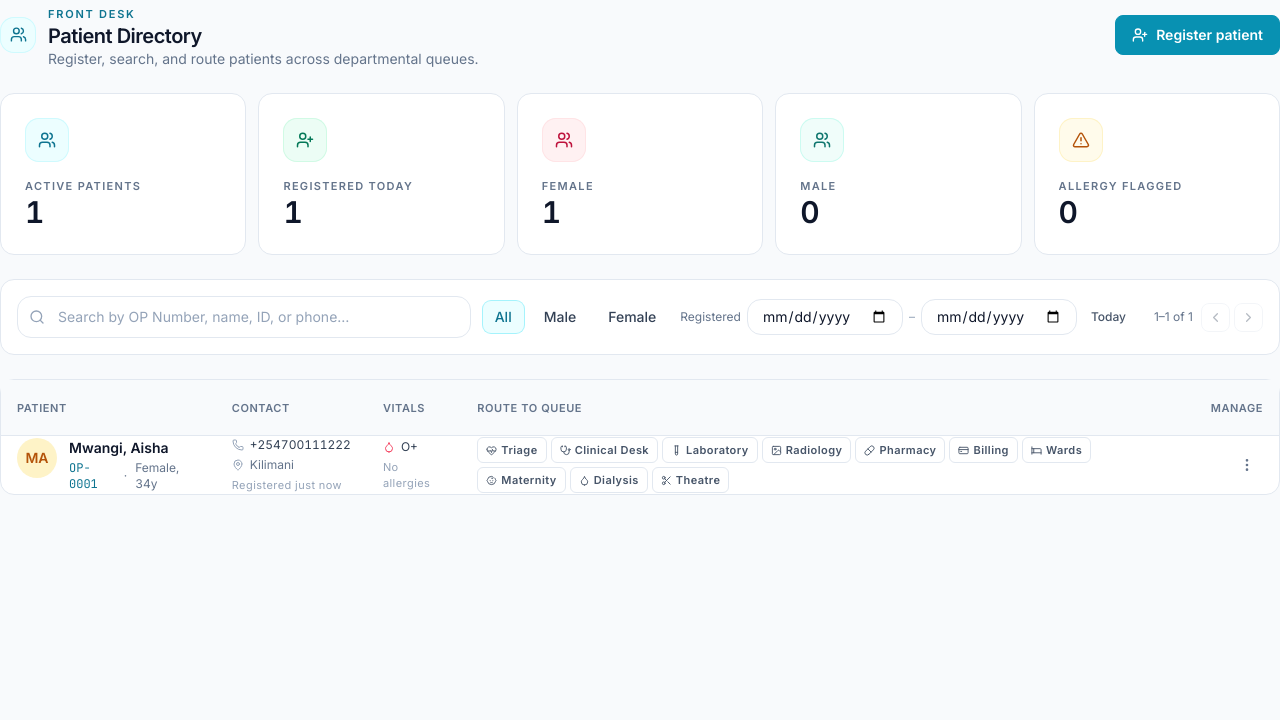
it: <Patients />, view details › opens the read-only details modal from the patient name with the full record
This screenshot has width=1280, height=720.
// The patient name is a button that opens the details modal.
What coordinates should you click on to do the following:
click the button "Mwangi, Aisha"
I would click on:
 (119, 448)
Its box is [69,438,169,458].
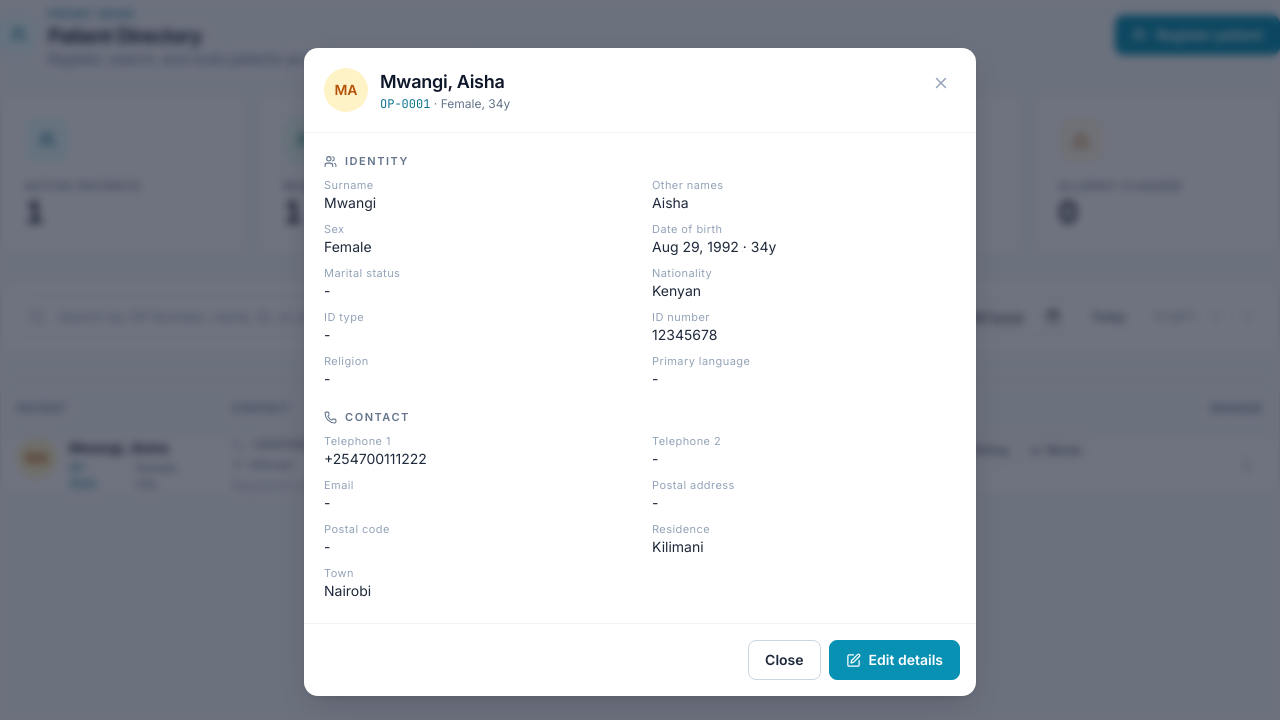
Expected: the text "12345678" is shown, [652,326,717,343]
Expected: the button "Edit details" is shown, [829,640,960,680]
